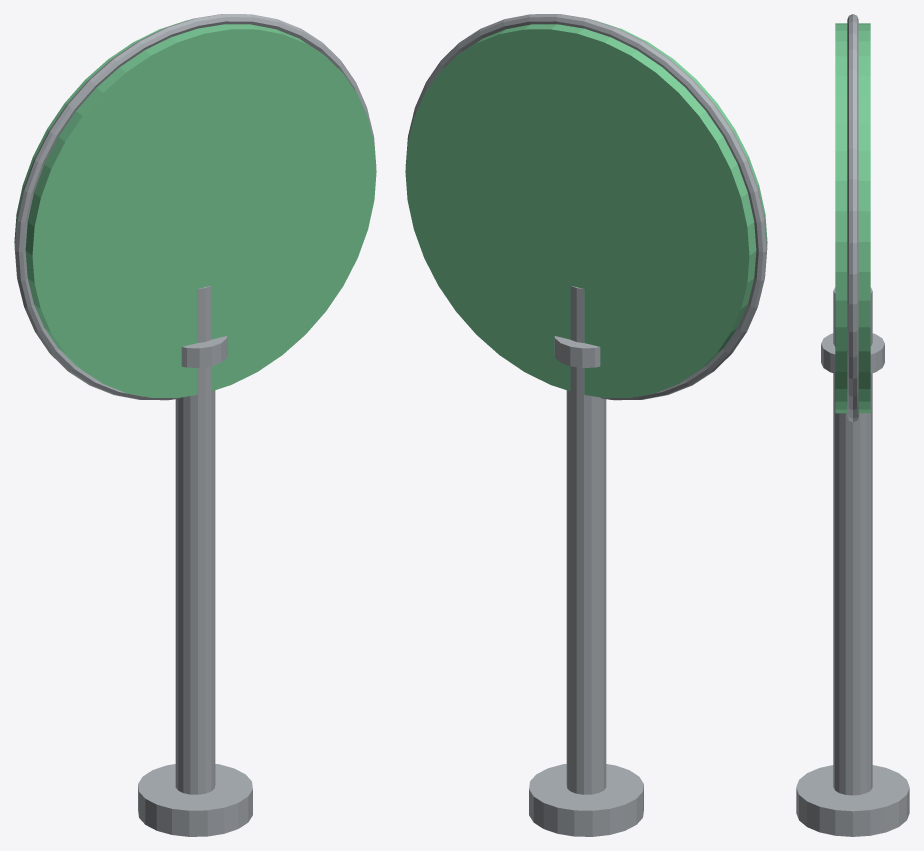
File: state-fair-pin-mobility-rental.glb
3 views of the same model, side by side, from view 1: azimuth 30°, elevation 25°; view 2: azimuth 150°, elevation 25°; view 3: azimuth 270°, elevation 25° (orthographic).
Visible parts, largest first — view 1: SFPIN_SignDisc, SFPIN_Post, SFPIN_Rim, SFPIN_Base, SFPIN_Collar; view 2: SFPIN_SignDisc, SFPIN_Post, SFPIN_Rim, SFPIN_Base, SFPIN_Collar; view 3: SFPIN_Post, SFPIN_SignDisc, SFPIN_Base, SFPIN_Rim, SFPIN_Collar.
Part boxes in pixels (box(x1,y1,x2,y2)): SFPIN_SignDisc: box(14, 20, 376, 397); SFPIN_Post: box(175, 286, 215, 794); SFPIN_Rim: box(14, 14, 376, 400); SFPIN_Base: box(138, 764, 252, 836); SFPIN_Collar: box(181, 336, 227, 367); SFPIN_SignDisc: box(405, 20, 767, 397); SFPIN_Post: box(566, 286, 606, 794); SFPIN_Rim: box(405, 14, 767, 400); SFPIN_Base: box(529, 764, 643, 836); SFPIN_Collar: box(554, 336, 600, 367); SFPIN_Post: box(833, 287, 872, 795); SFPIN_SignDisc: box(835, 23, 870, 413); SFPIN_Base: box(796, 765, 909, 836); SFPIN_Rim: box(847, 14, 858, 422); SFPIN_Collar: box(821, 333, 884, 373).
Bounding box in the file's own units: 1.15 × 2.43 × 0.32.
